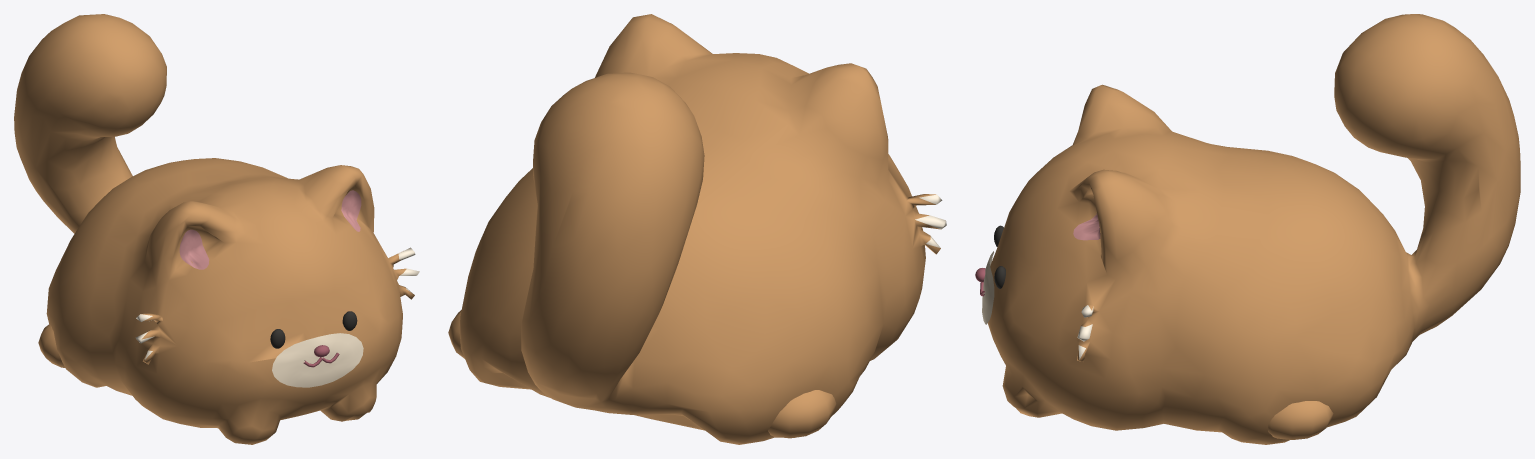
File: cat.glb
The picture shows the model from 3 angles, left to right: view 1: azimuth 30°, elevation 25°; view 2: azimuth 150°, elevation 25°; view 3: azimuth 270°, elevation 25°; orthographic projection. The views are drawn at different scales.
Visible parts, largest first — view 1: pet-body, pet-markings, pet-ears, pet-whiskers; view 2: pet-body; view 3: pet-body, pet-markings.
Boxes of the visible parts, x1,y1,x2,y2 form: pet-body: (14, 14, 414, 444); pet-markings: (272, 333, 363, 387); pet-ears: (179, 190, 361, 269); pet-whiskers: (135, 247, 419, 359); pet-body: (448, 14, 940, 444); pet-body: (987, 14, 1520, 444); pet-markings: (982, 251, 994, 324).
Bounding box in the file's own units: 0.82 × 0.813 × 1.18.
